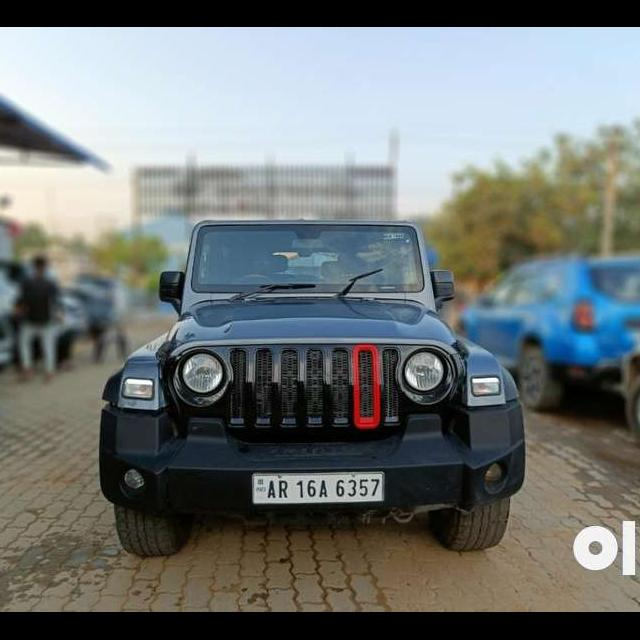Indian_Number_Plate: (251, 473, 385, 504)
